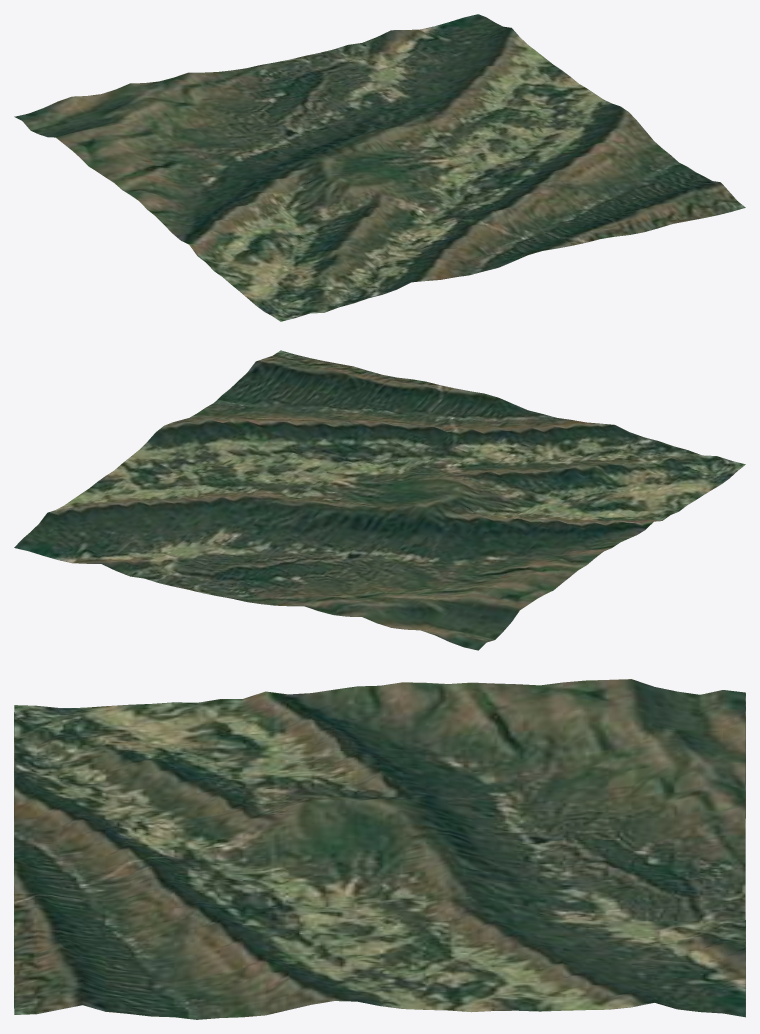
3 views of the same model, one above another, from view 1: azimuth 30°, elevation 25°; view 2: azimuth 150°, elevation 25°; view 3: azimuth 270°, elevation 25° (orthographic). The views are drawn at different scales.
Size of the model in its own units: 15586 by 720 by 15510.
1 material, 1 textured.
